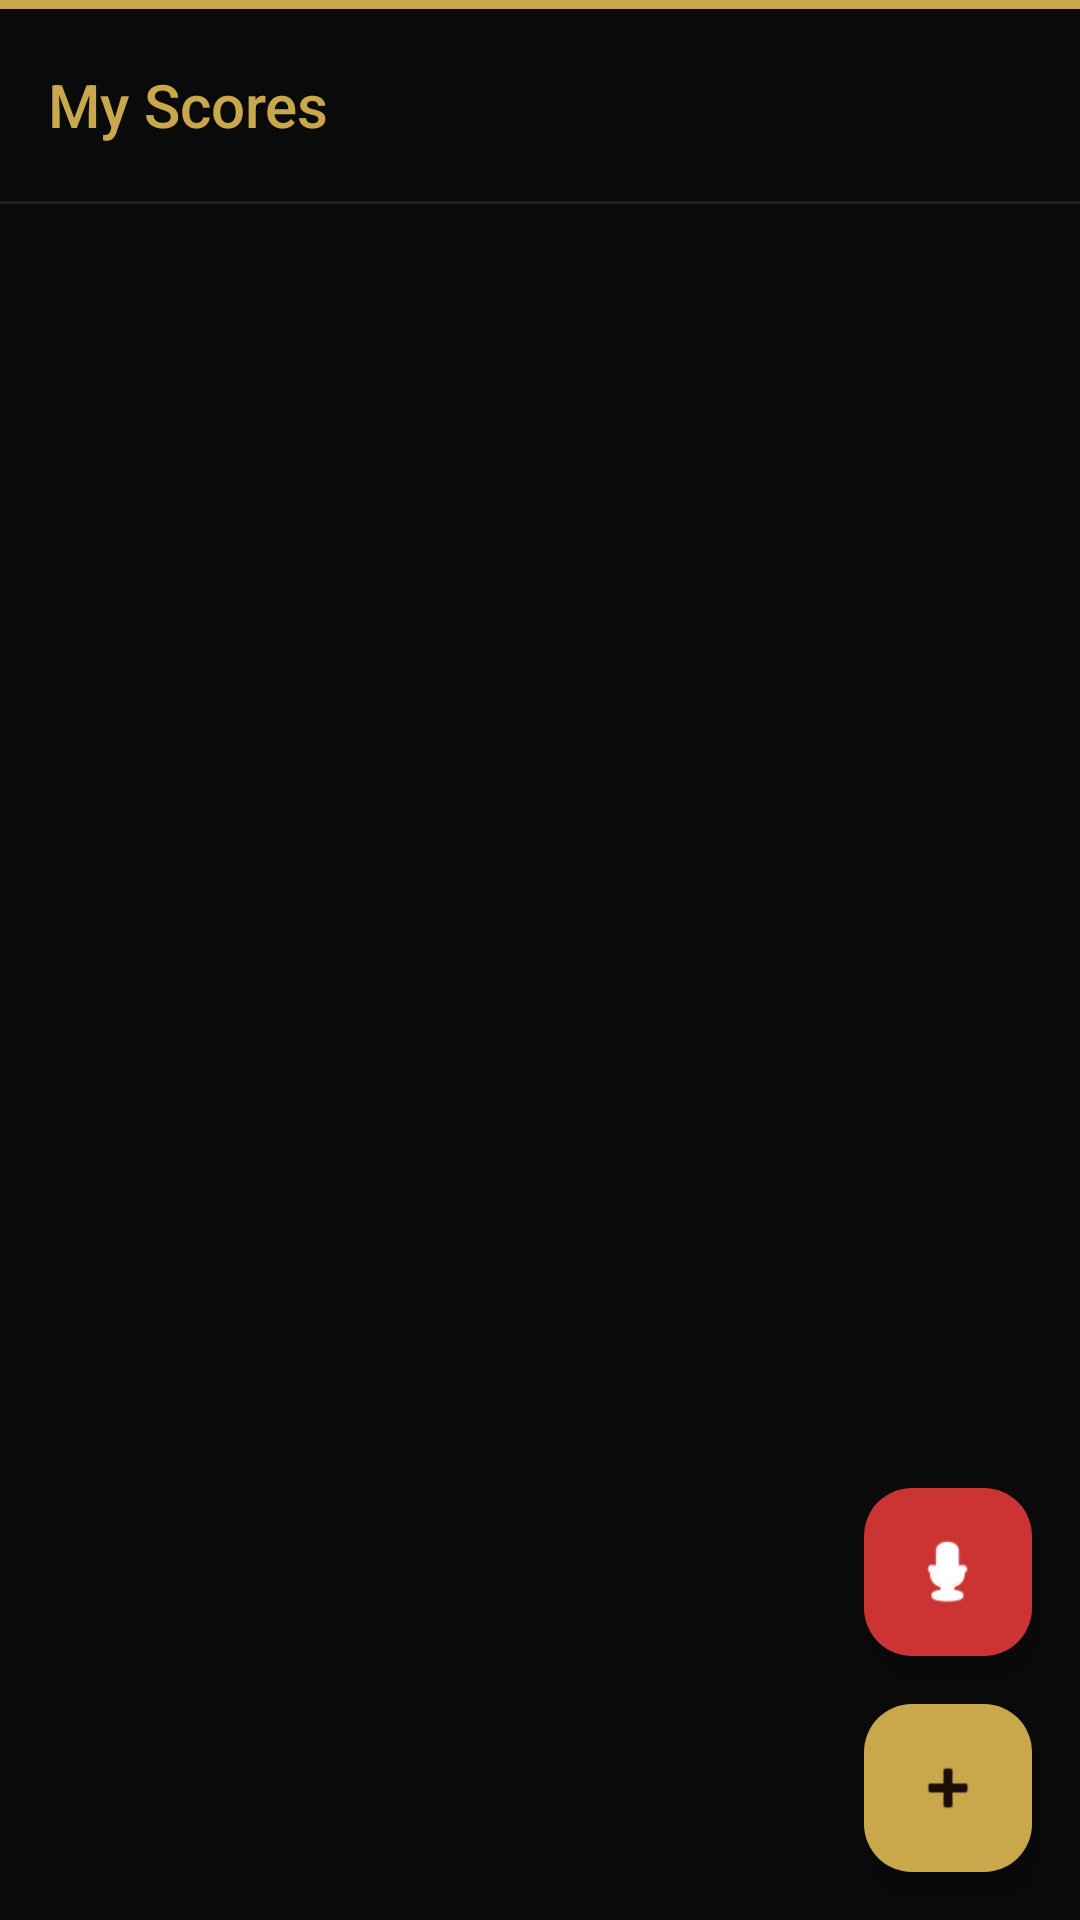

Point at icon controls on the screen. Image size 1080px×1920px, points as (x=x, y=y).
Record audio: (x=948, y=1572)
